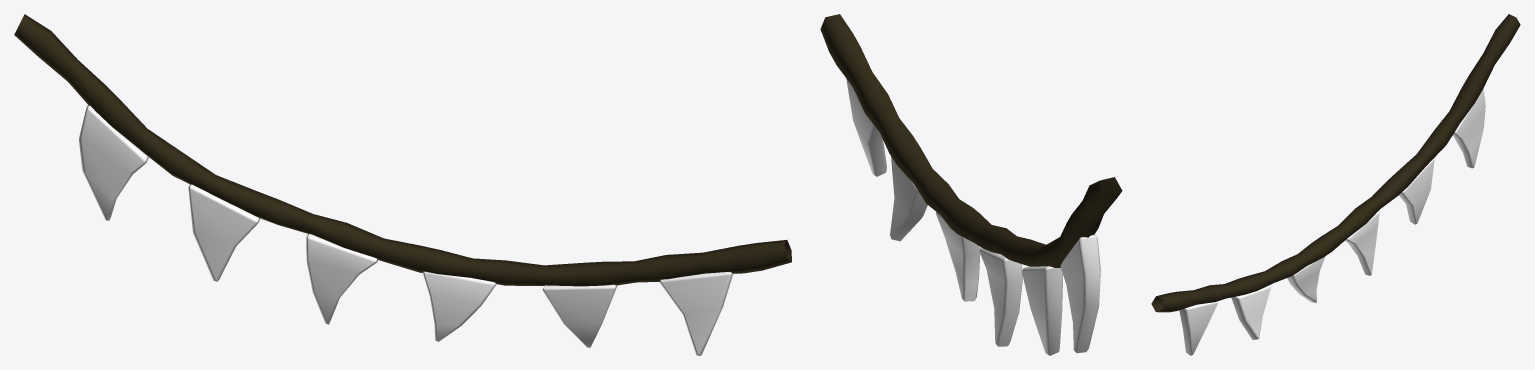
File: p_dlc5_rope_bunting_11.fbx
3 views of the same model, side by side, from view 1: azimuth 30°, elevation 25°; view 2: azimuth 150°, elevation 25°; view 3: azimuth 270°, elevation 25° (orthographic). The views are drawn at different scales.
Visible parts, largest first — view 1: m_dlc5_buntingrope_01, m_dlc5_bunting_01; view 2: m_dlc5_bunting_01, m_dlc5_buntingrope_01; view 3: m_dlc5_buntingrope_01, m_dlc5_bunting_01.
Part boxes in pixels (x1=…): m_dlc5_buntingrope_01: x1=14, y1=14, x2=791, y2=286; m_dlc5_bunting_01: x1=79, y1=105, x2=732, y2=355; m_dlc5_bunting_01: x1=846, y1=79, x2=1100, y2=355; m_dlc5_buntingrope_01: x1=820, y1=14, x2=1122, y2=267; m_dlc5_buntingrope_01: x1=1151, y1=14, x2=1520, y2=312; m_dlc5_bunting_01: x1=1179, y1=88, x2=1485, y2=355.
Bounding box in the file's own units: 4.15 × 2.16 × 3.66.
